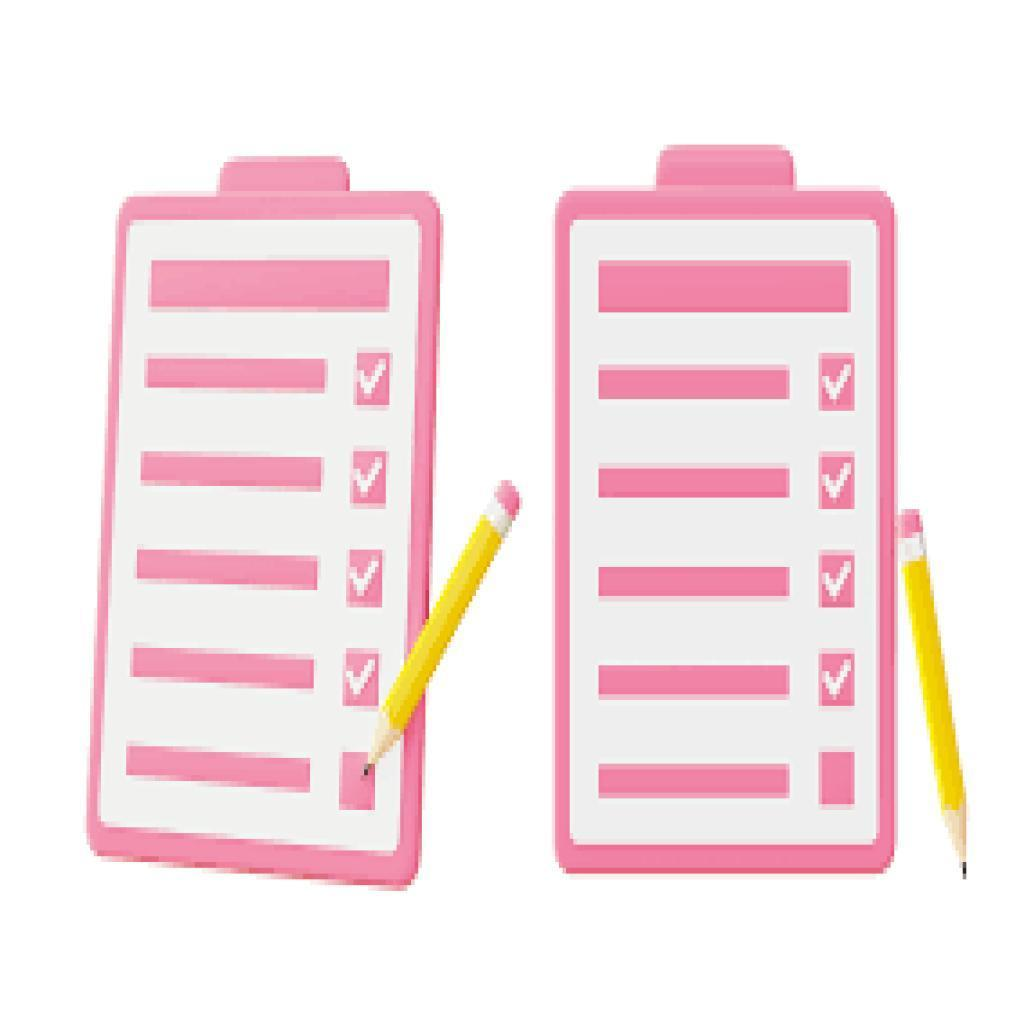checkbox: (817, 546, 858, 614), (345, 545, 386, 611), (817, 351, 859, 415), (342, 649, 386, 709), (815, 451, 858, 512), (819, 746, 858, 811), (819, 647, 858, 710), (351, 450, 388, 508), (356, 353, 394, 407)
